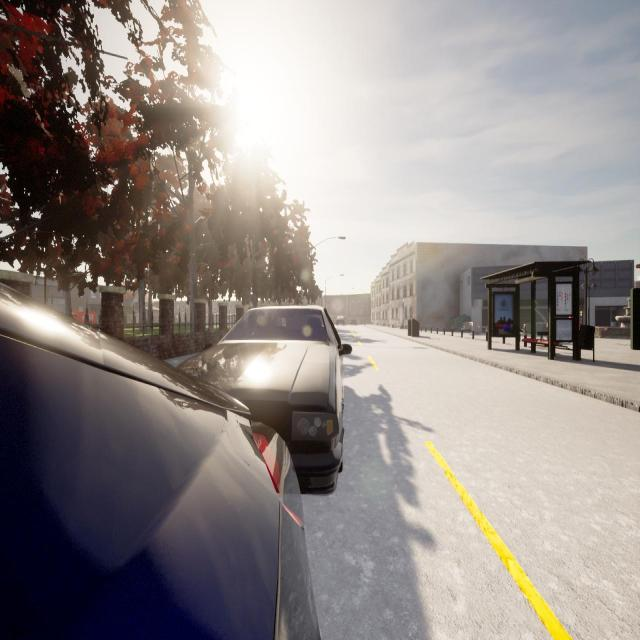Vehicle: (0, 287, 319, 640), (180, 306, 352, 488), (336, 316, 344, 326)
